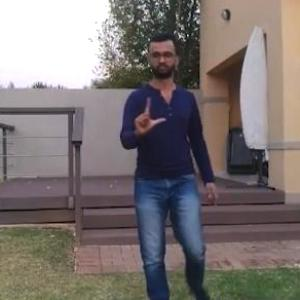land_hand: (126, 86, 170, 140)
